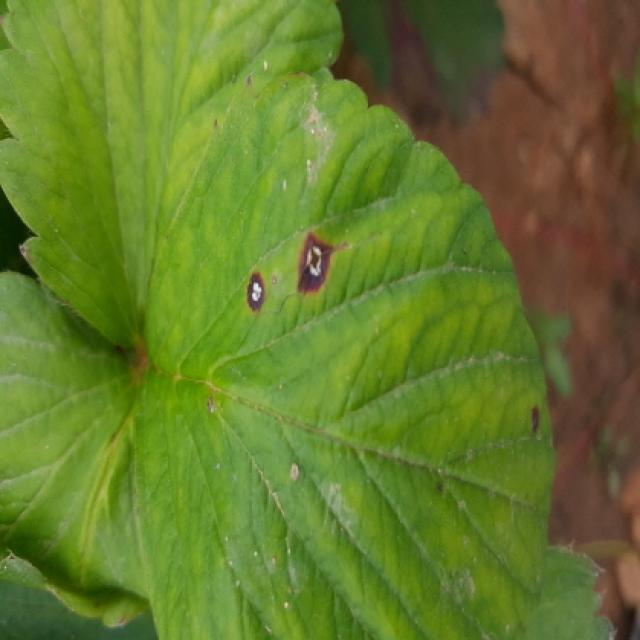Leaf Spot: (130, 68, 553, 638)
